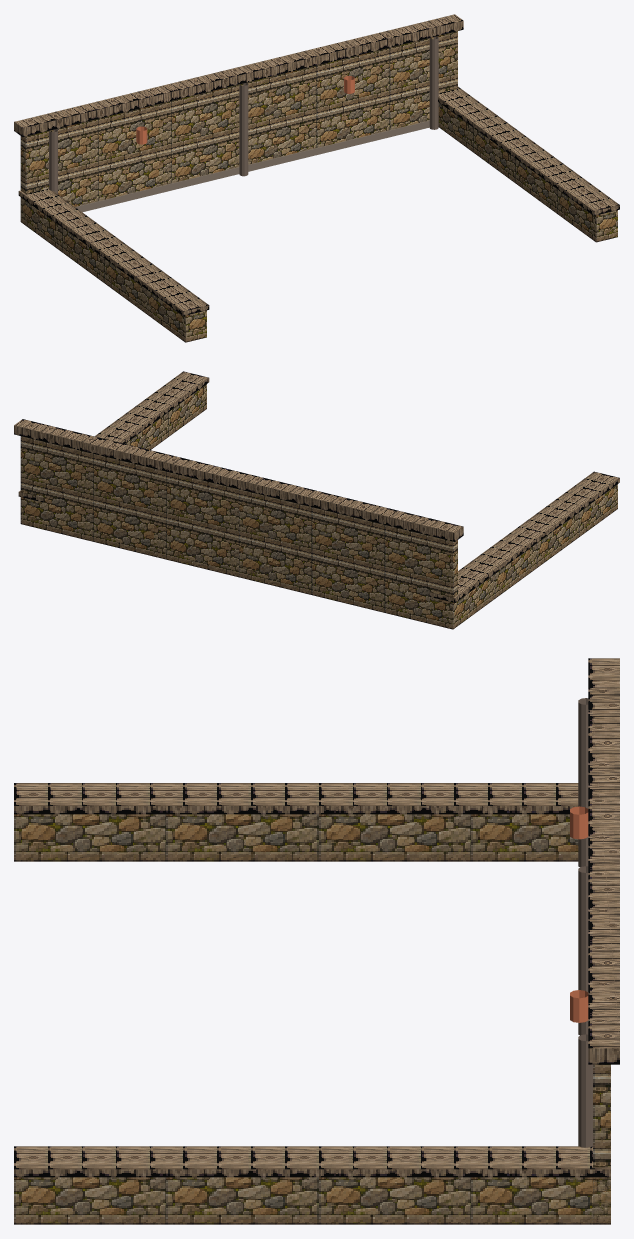
The model's file is rm_well.glb.
The picture shows the model from 3 angles, top to bottom: view 1: azimuth 30°, elevation 25°; view 2: azimuth 150°, elevation 25°; view 3: azimuth 270°, elevation 25°; orthographic projection. The views are drawn at different scales.
Visible parts, largest first — view 1: wall, beam, side, trim, post; view 2: wall, beam, side; view 3: side, beam, post, wall, lamp.
Part boxes in pixels (x1,y1,x2,y2): wall: (20,31,457,225); beam: (14,14,619,315); side: (20,102,617,342); trim: (25,120,429,225); post: (49,36,438,193); wall: (20,436,457,629); beam: (14,371,619,602); side: (125,384,617,625); side: (14,814,610,1224); beam: (14,658,619,1177); post: (578,698,592,1147); wall: (593,1064,610,1224); lamp: (570,806,588,1022).
Bounding box in the file's own units: 204 × 44 × 134.
Materials: 6 (3 with a texture image).
